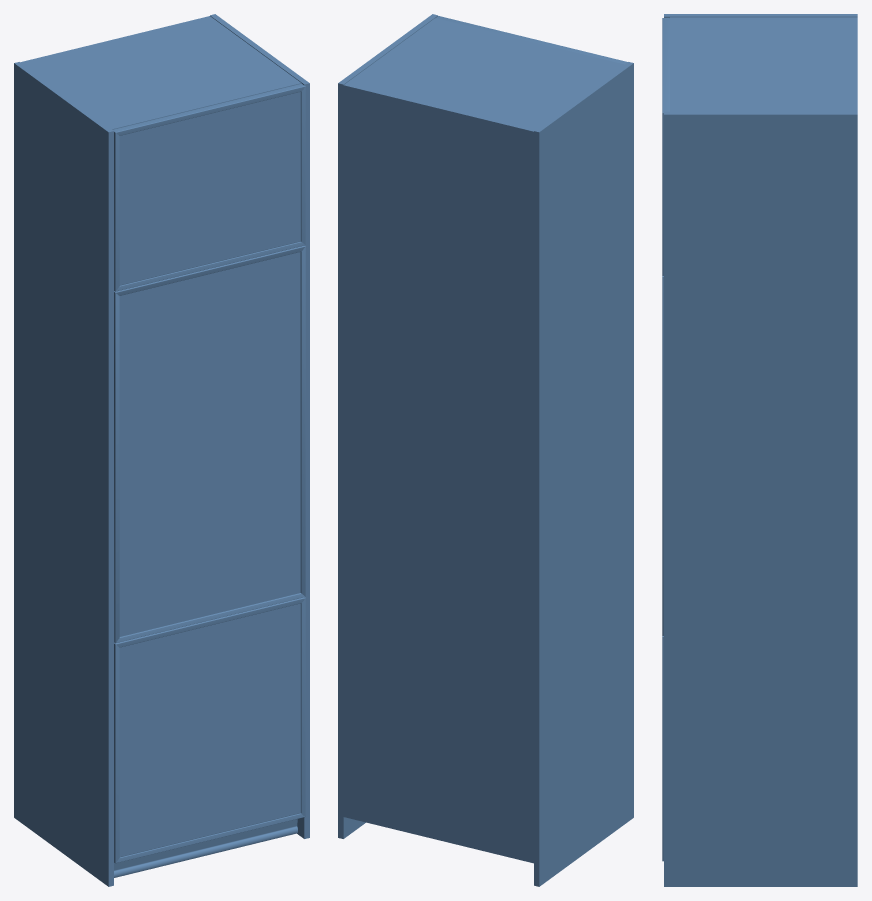
The model's file is c_triple.gltf.
The picture shows the model from 3 angles, left to right: view 1: azimuth 30°, elevation 25°; view 2: azimuth 150°, elevation 25°; view 3: azimuth 270°, elevation 25°; orthographic projection. The views are drawn at different scales.
Visible parts, largest first — view 1: Box8222857 (×2), Box8222890, Box8222891, Box8222892, Rectangle026, Rectangle044, Rectangle045, Rectangle046, SPR-5051; view 2: Box8222857 (×2), Rectangle025, Rectangle026, Rectangle024, Rectangle046; view 3: Box8222857 (×2), Rectangle026, Rectangle046, Rectangle044, Rectangle045.
Boxes of the visible parts, <box> form: Box8222857 (×2): <box>14,14,309,886</box>; Box8222890: <box>119,252,300,636</box>; Box8222891: <box>119,603,300,856</box>; Box8222892: <box>119,92,300,285</box>; Rectangle026: <box>20,16,301,129</box>; Rectangle044: <box>114,245,305,643</box>; Rectangle045: <box>114,597,305,863</box>; Rectangle046: <box>113,83,305,291</box>; SPR-5051: <box>114,819,297,877</box>; Box8222857 (×2): <box>338,14,633,886</box>; Rectangle025: <box>342,245,533,643</box>; Rectangle026: <box>342,18,624,291</box>; Rectangle024: <box>342,597,533,863</box>; Rectangle046: <box>436,16,627,64</box>; Box8222857 (×2): <box>664,14,857,886</box>; Rectangle026: <box>670,17,857,111</box>; Rectangle046: <box>662,18,669,275</box>; Rectangle044: <box>662,276,663,635</box>; Rectangle045: <box>662,636,663,861</box>.
Size of the model in its own units: 0.7367 by 2.64 by 0.6055.
